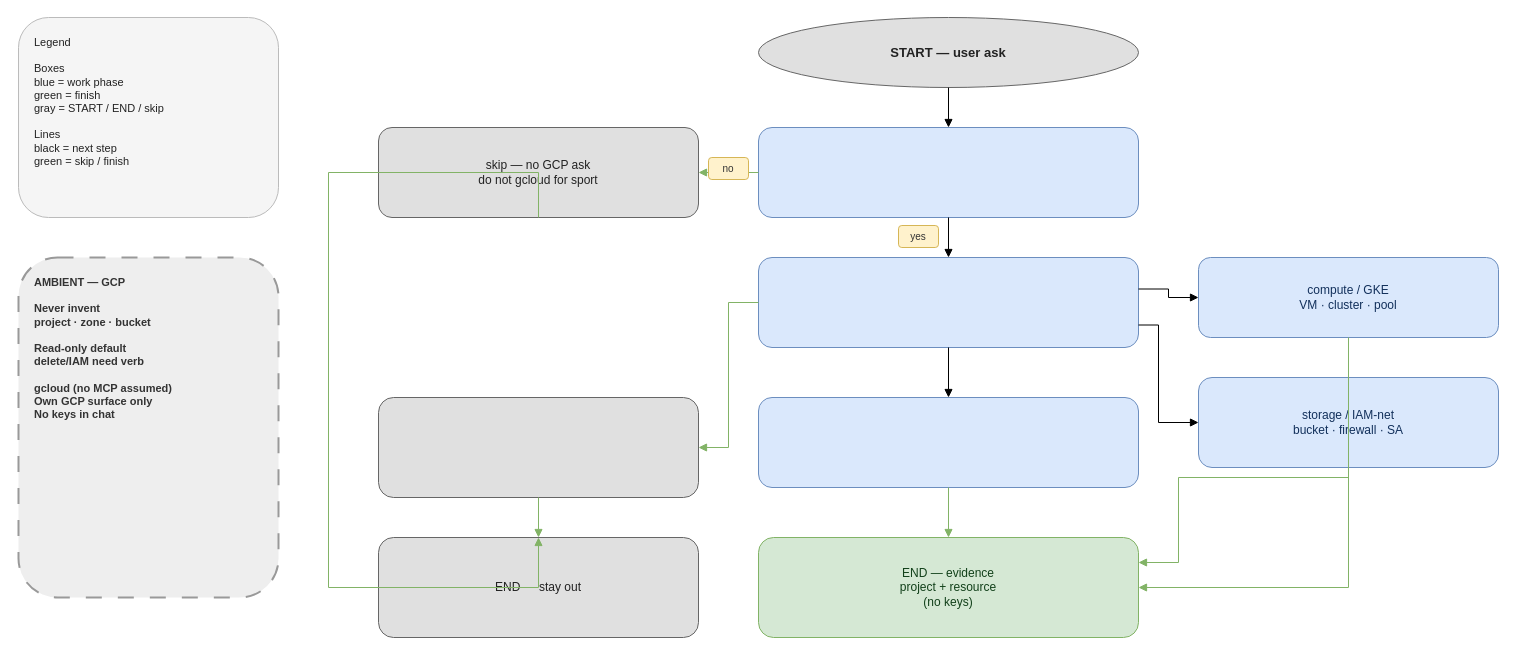
The diagram is 1516 pixels wide and 655 high, and some of its shapes have lost their labels. Here are the shapes that lost their labels. From the top down, the box of each, then its label:
(758, 126, 1138, 218): gate · GCP / project / compute / GKE / GCS / IAM ask or named id?
(758, 256, 1138, 348): route · inventory vs compute vs storage vs IAM/network vs mutate
(378, 396, 698, 498): refuse mutate unless explicit verb (safety)
(758, 396, 1138, 488): incident-inventory project → list/describe
